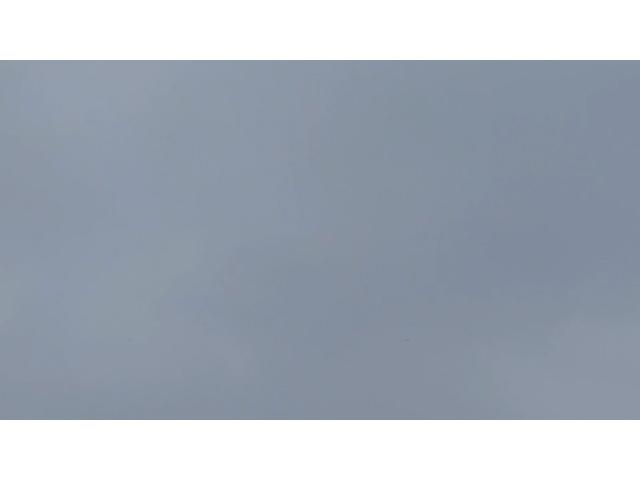Anti-Drone: (403, 337, 411, 343)
